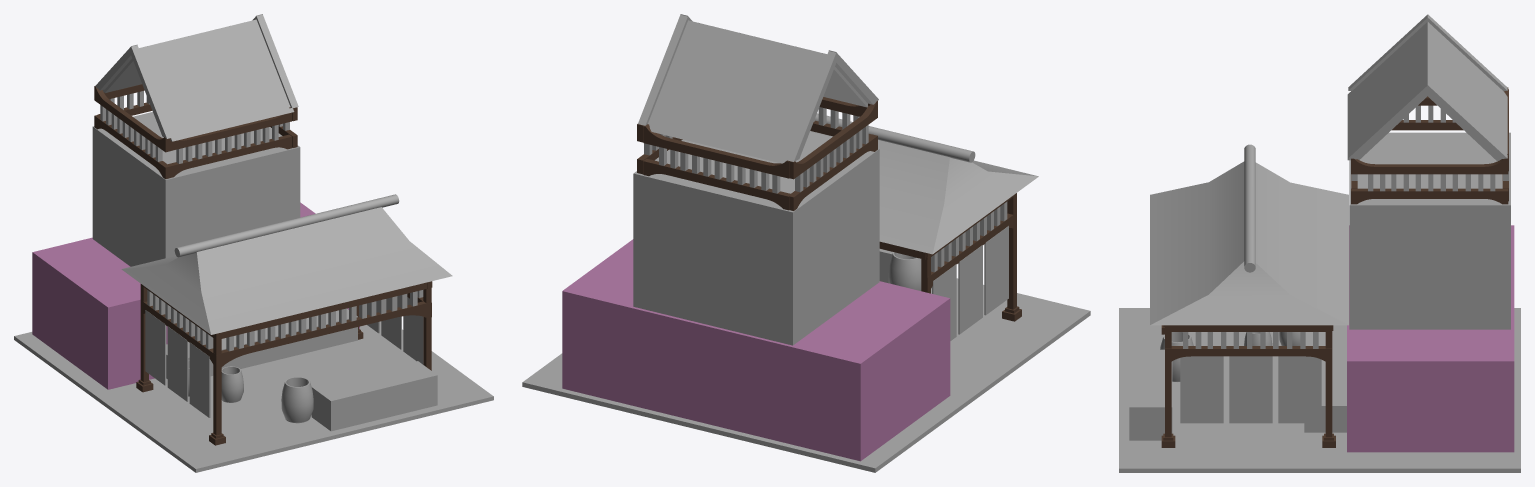
Rendered from Smith.fbx.
3 views of the same model, side by side, from view 1: azimuth 30°, elevation 25°; view 2: azimuth 150°, elevation 25°; view 3: azimuth 270°, elevation 25° (orthographic). The views are drawn at different scales.
Visible parts, largest first — view 1: polySurface12, pCube52, pCube122, poles, pCube162, polySurface25, pCube118, pCube121, pCylinder8, pCube124, pCube123, pCube125 (+5 smaller); view 2: pCube162, pCube122, poles, polySurface20, pCube52, polySurface12, pCube124, pCube125, pCylinder8, pCylinder10, pCube123, polySurface25; view 3: polySurface12, pCube122, pCube162, pCube52, poles, polySurface25, polySurface20, pCube118, pCube127, pCube126, pCube128, pCube121 (+2 smaller).
Part boxes in pixels (x1,y1,x2,y2): polySurface12: (121,207,452,334); pCube52: (14,321,493,472); pCube122: (92,112,300,266); poles: (94,14,432,445); pCube162: (32,202,359,389); polySurface25: (139,19,294,141); pCube118: (311,361,437,431); pCube121: (166,308,357,378); pCylinder8: (174,194,399,257); pCube124: (167,326,188,401); pCube123: (145,310,166,385); pCube125: (189,342,210,417); pCube162: (562,239,950,461); pCube122: (633,132,879,345); poles: (637,14,1021,321); polySurface20: (648,20,827,163); pCube52: (522,278,1090,472); polySurface12: (810,131,1038,254); pCube124: (958,245,982,334); pCube125: (984,226,1008,315); pCylinder8: (815,113,975,162); pCylinder10: (888,252,921,290); pCube123: (932,264,956,340); polySurface25: (823,67,867,107); polySurface12: (1150,161,1348,325); pCube122: (1349,132,1510,329); pCube162: (1347,225,1514,452); pCube52: (1119,308,1520,472); poles: (1161,14,1508,447); polySurface25: (1347,22,1427,160); polySurface20: (1427,22,1507,160); pCube118: (1129,349,1172,440); pCube127: (1229,356,1272,423); pCube126: (1180,356,1223,423); pCube128: (1278,356,1321,423); pCube121: (1304,325,1346,432).
Bounding box in the file's own units: 58.8 × 57.75 × 62.1.
